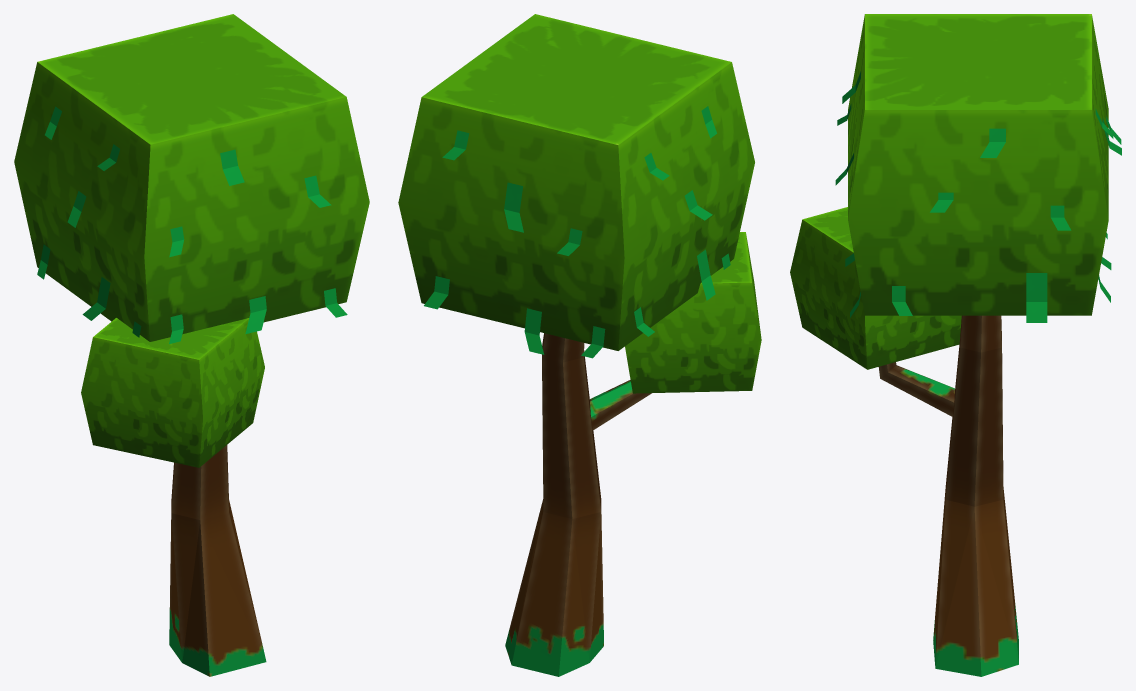
The model's file is NatureProps_OakGreen.fbx.
3 views of the same model, side by side, from view 1: azimuth 30°, elevation 25°; view 2: azimuth 150°, elevation 25°; view 3: azimuth 270°, elevation 25° (orthographic).
Parts seen in each view (by area): view 1: TreeBase04.001; view 2: TreeBase04.001; view 3: TreeBase04.001.
Boxes of the visible parts, x1,y1,x2,y2 form: TreeBase04.001: (14,14,369,676); TreeBase04.001: (398,14,761,676); TreeBase04.001: (790,14,1121,676).
Size of the model in its own units: 258 by 524 by 271.
